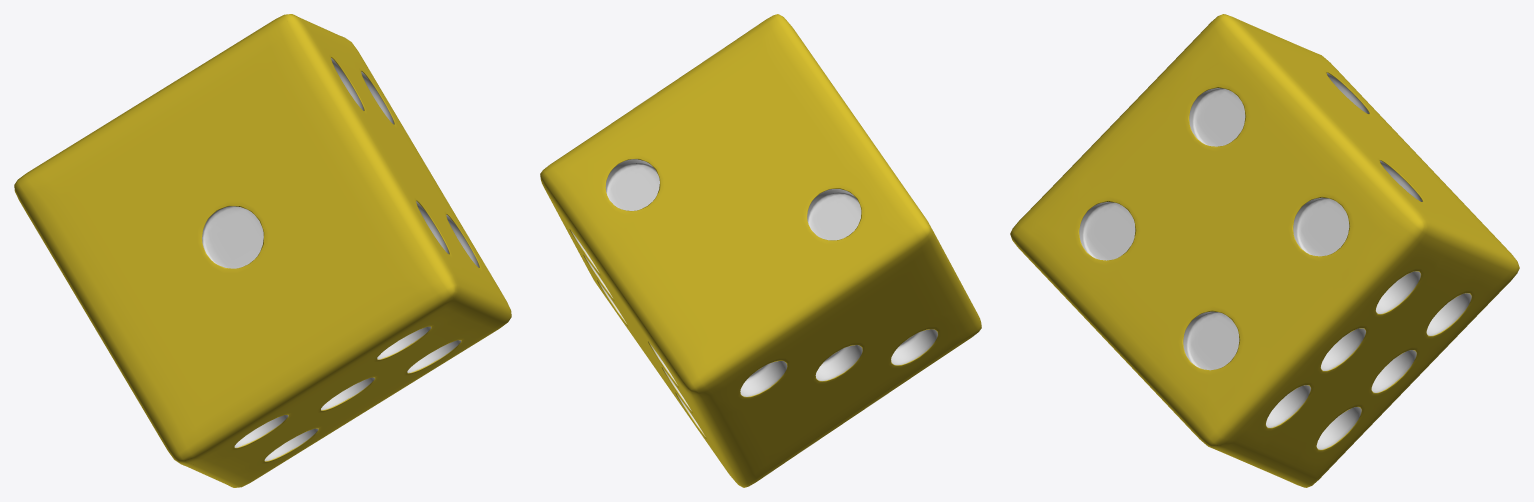
File: DiceRoll1.gltf
3 views of the same model, side by side, from view 1: azimuth 30°, elevation 25°; view 2: azimuth 150°, elevation 25°; view 3: azimuth 270°, elevation 25° (orthographic). The views are drawn at different scales.
Visible parts, largest first — view 1: Cube; view 2: Cube; view 3: Cube.
Boxes of the visible parts, left/top/right/bottom form: Cube: left=14, top=14, right=511, bottom=487; Cube: left=540, top=14, right=981, bottom=487; Cube: left=1010, top=14, right=1519, bottom=487.
Bounding box in the file's own units: 3.01 × 3.29 × 3.19.
1 material, 1 textured.
